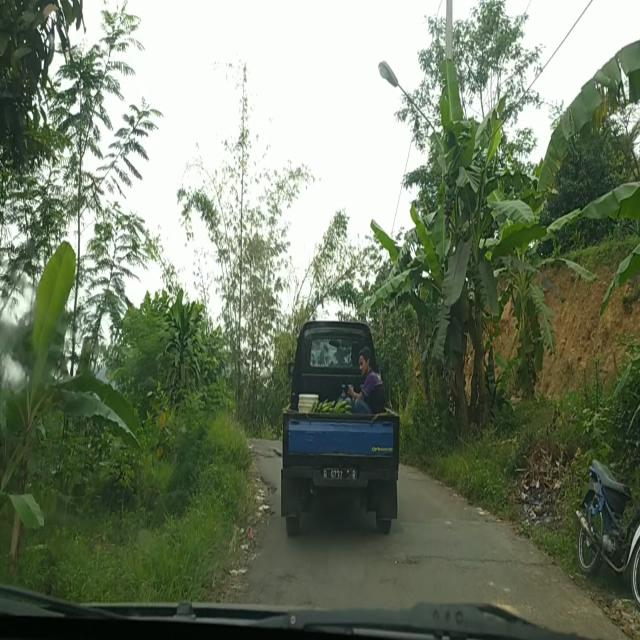Sewer Cover: (405, 553, 543, 569)
